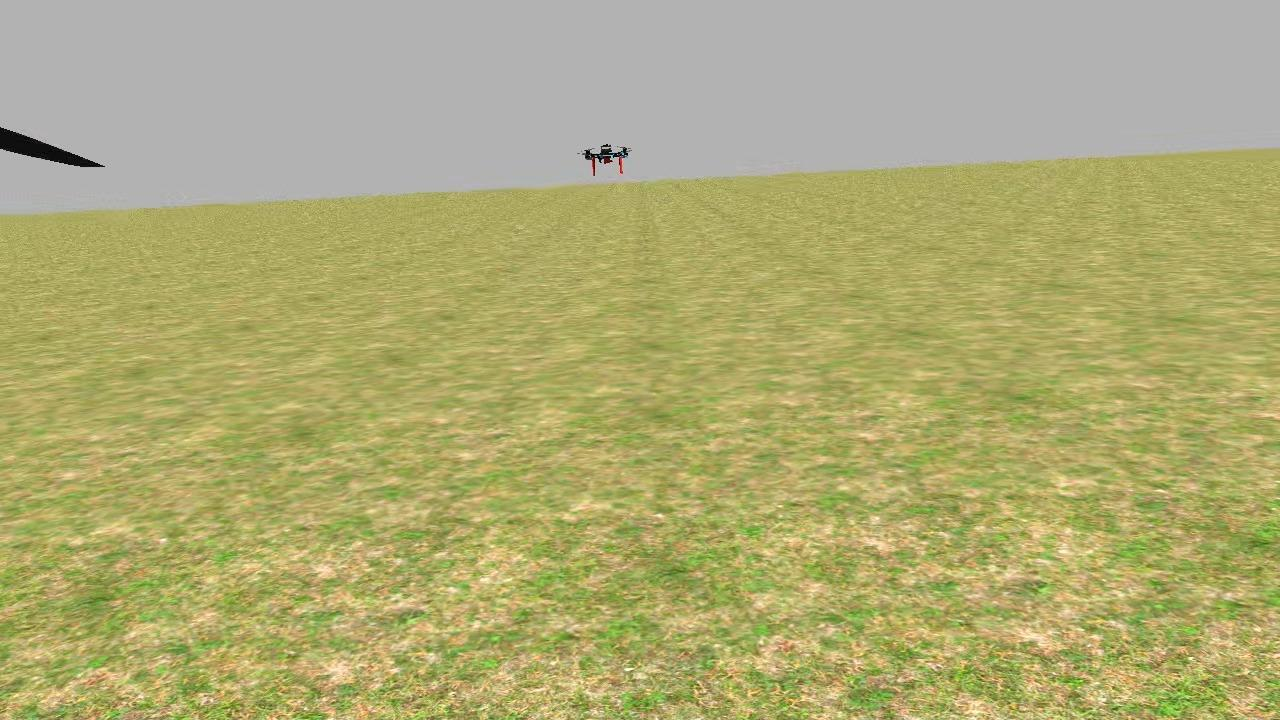UAV: (564, 128, 647, 189)
